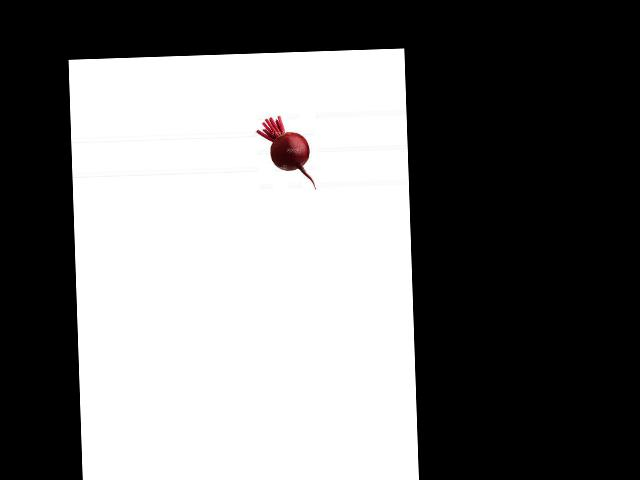beet: (255, 114, 316, 190)
